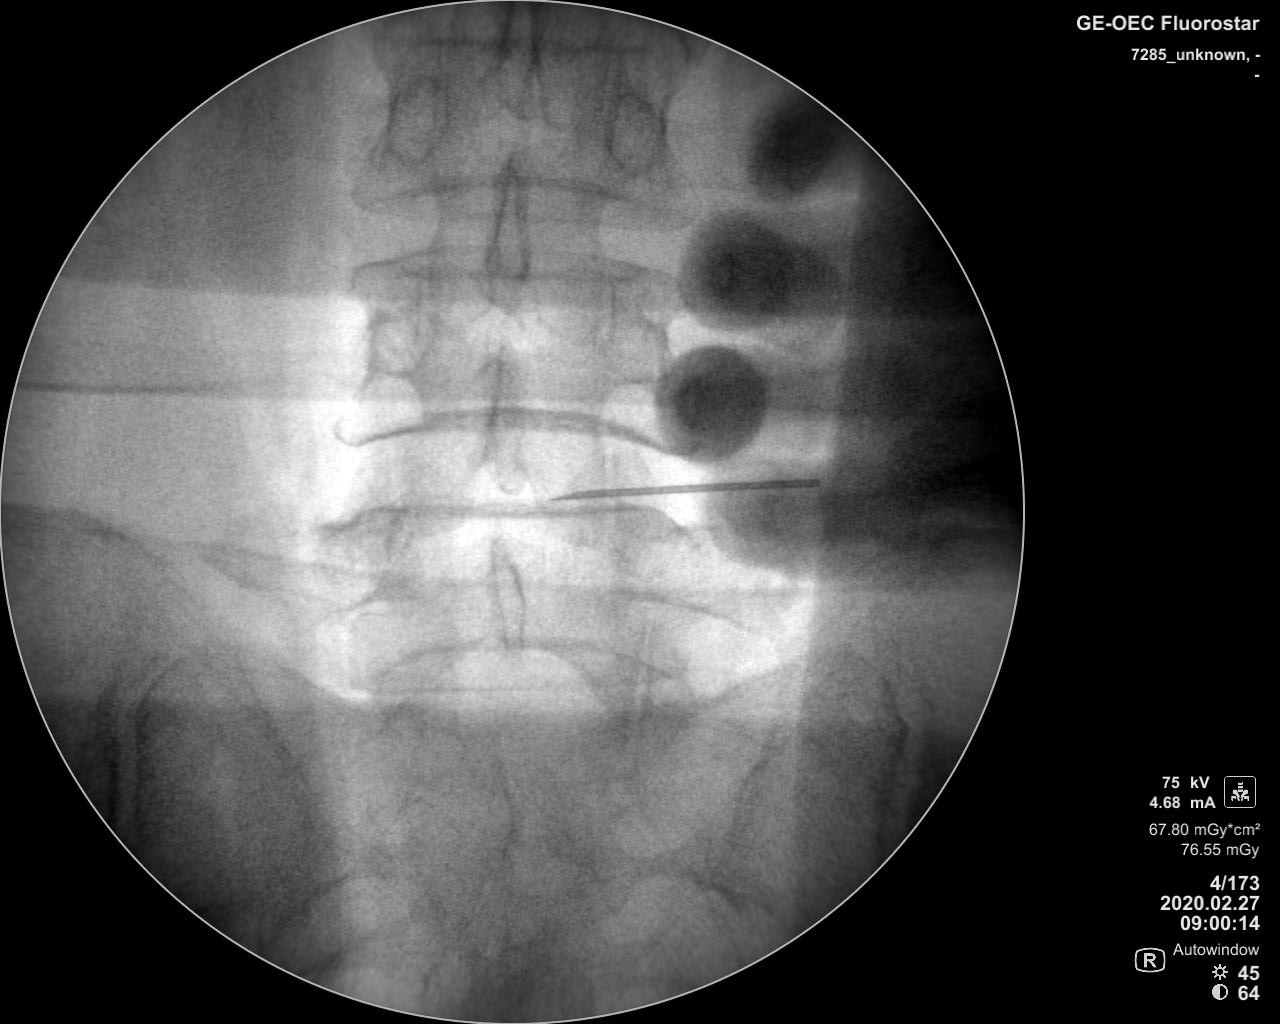eyes: (359, 283, 436, 382), (597, 284, 673, 380), (385, 69, 453, 166), (602, 95, 668, 181)
line: (345, 176, 675, 239), (354, 636, 685, 697), (330, 408, 667, 456), (345, 243, 676, 289), (374, 31, 668, 64), (335, 504, 659, 528)
nose: (480, 341, 532, 503), (482, 158, 529, 304), (493, 1, 540, 127), (482, 539, 533, 655)
